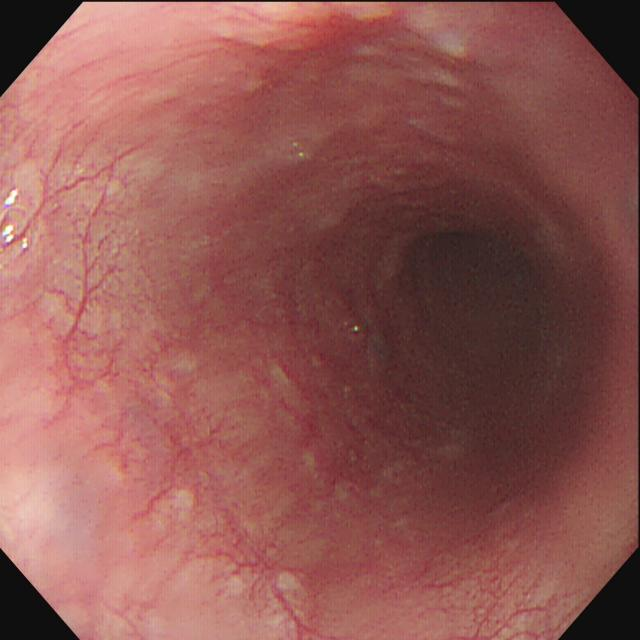E: (368, 208, 559, 416)
U: (2, 188, 33, 254)
